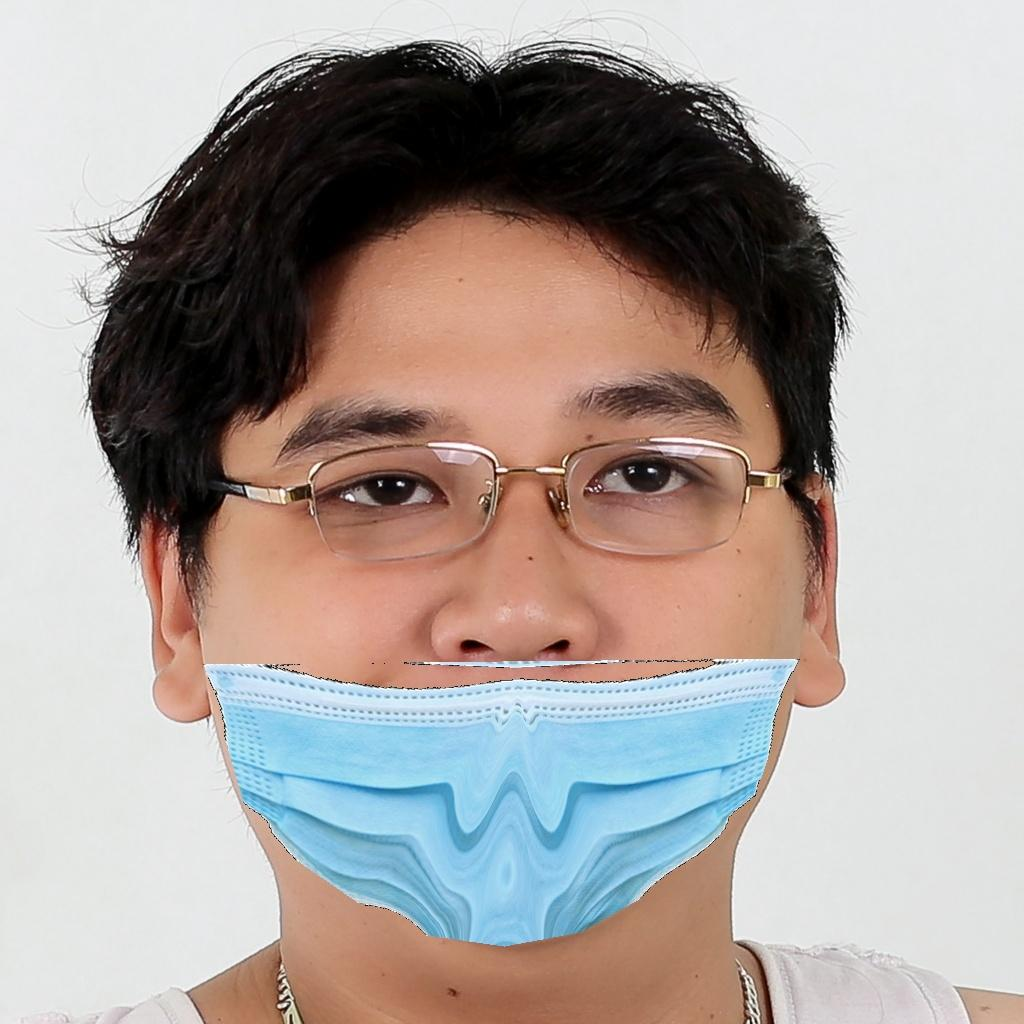Máscara Incorreta: (228, 262, 790, 941)
